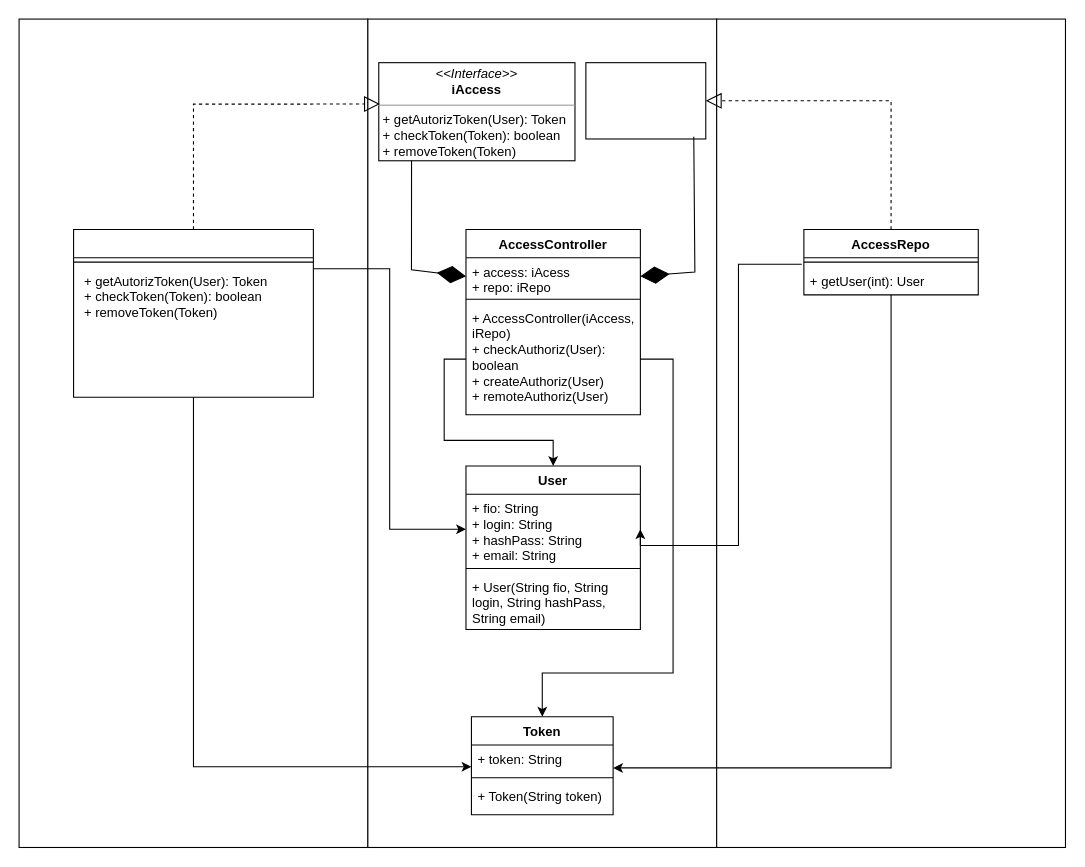
The diagram is 1085 pixels wide and 867 high, and some of its shapes have lost their labels. The box of each missing label's shape, as (x1, y1, x2, y2) in pixels:
<<Interface>> iRepo + getUser(int): User: (585, 62, 706, 139)
AccessMenu: (72, 228, 313, 397)
